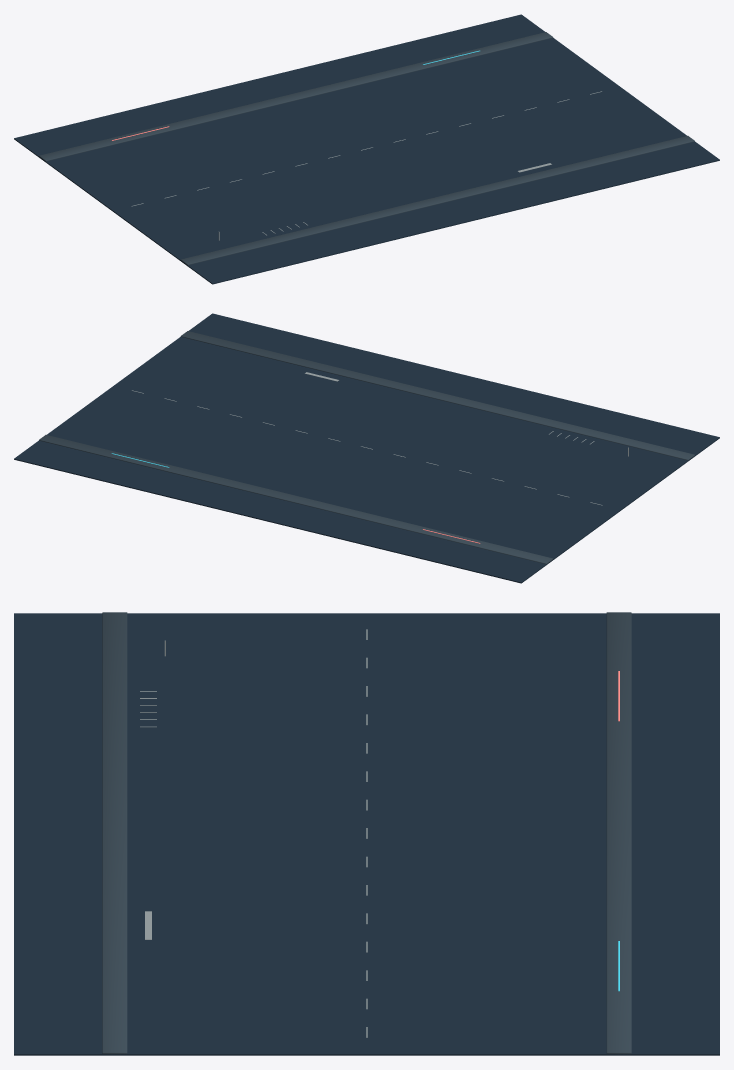
File: weapon_effects_a_preview_stage.glb
3 views of the same model, one above another, from view 1: azimuth 30°, elevation 25°; view 2: azimuth 150°, elevation 25°; view 3: azimuth 270°, elevation 25° (orthographic). The views are drawn at different scales.
Visible parts, largest first — view 1: Asphalt, Curb-1, Curb1; view 2: Asphalt, Curb1, Curb-1; view 3: Asphalt, Curb-1, Curb1.
Boxes of the visible parts, x1,y1,x2,y2 form: Asphalt: (14,14,719,284); Curb-1: (181,136,694,265); Curb1: (39,32,553,161); Asphalt: (14,313,719,583); Curb1: (39,435,553,564); Curb-1: (180,331,694,460); Asphalt: (14,613,719,1055); Curb-1: (102,612,127,1053); Curb1: (606,612,631,1054).
Bounding box in the file's own units: 62 × 1.12 × 42.
